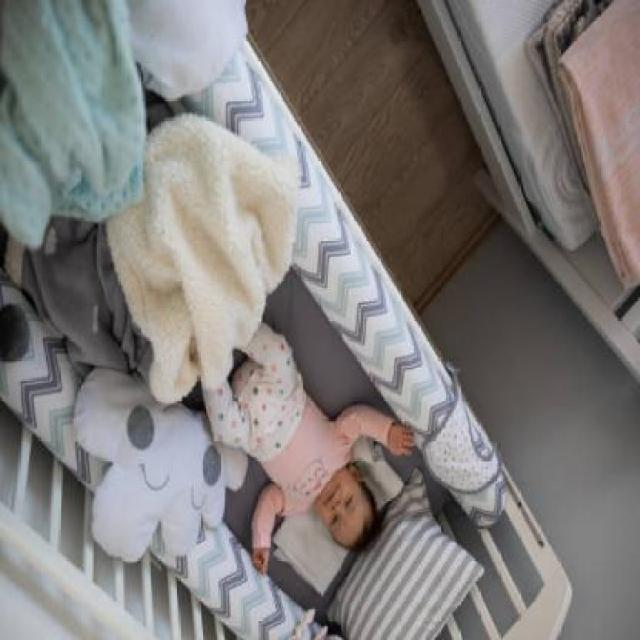child: (196, 325, 416, 576)
